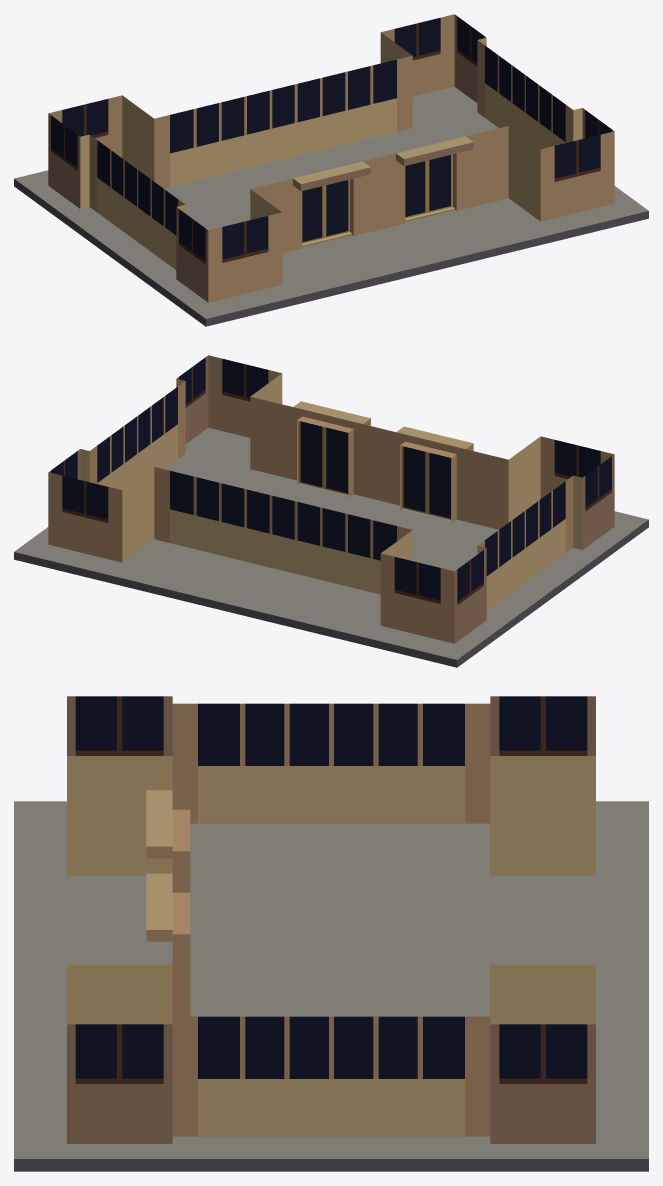
Rendered from TB_CITY_Skysc_K_Bottom_Brown.FBX.
3 views of the same model, one above another, from view 1: azimuth 30°, elevation 25°; view 2: azimuth 150°, elevation 25°; view 3: azimuth 270°, elevation 25° (orthographic). The views are drawn at different scales.
Visible parts, largest first — view 1: TB_CITY_Skysc_K_Bottom_Brown; view 2: TB_CITY_Skysc_K_Bottom_Brown; view 3: TB_CITY_Skysc_K_Bottom_Brown.
Part boxes in pixels (left/top/right/bottom): TB_CITY_Skysc_K_Bottom_Brown: left=14, top=14, right=648, bottom=326; TB_CITY_Skysc_K_Bottom_Brown: left=14, top=355, right=648, bottom=667; TB_CITY_Skysc_K_Bottom_Brown: left=14, top=696, right=648, bottom=1171.
Bounding box in the file's own units: 48 × 8.3 × 36.
